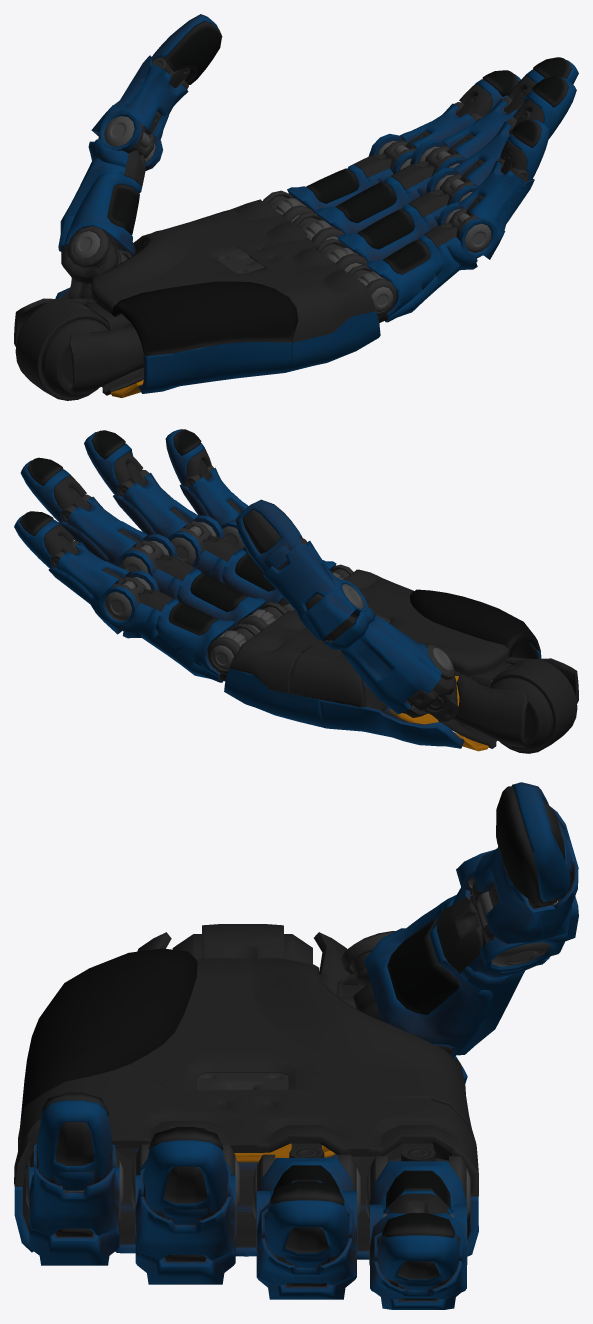
File: Robotic_Hand_Left.fbx
The picture shows the model from 3 angles, top to bottom: view 1: azimuth 30°, elevation 25°; view 2: azimuth 150°, elevation 25°; view 3: azimuth 270°, elevation 25°; orthographic projection. The views are drawn at different scales.
Parts seen in each view (by area): view 1: Robotic_Hand_Left; view 2: Robotic_Hand_Left; view 3: Robotic_Hand_Left.
Boxes of the visible parts, x1,y1,x2,y2 form: Robotic_Hand_Left: (14, 14, 578, 400); Robotic_Hand_Left: (14, 429, 578, 753); Robotic_Hand_Left: (14, 782, 578, 1309).
Size of the model in its own units: 21.37 by 9.69 by 10.07.
